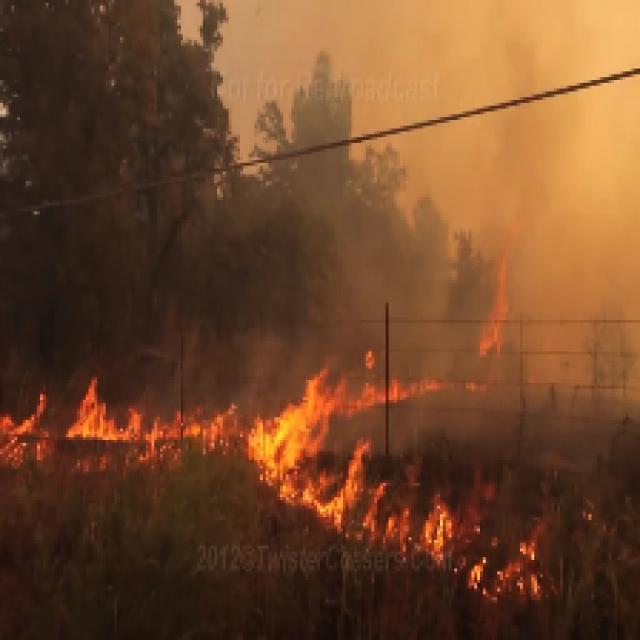Fire: (5, 331, 578, 606)
Smoke: (343, 0, 640, 326)
